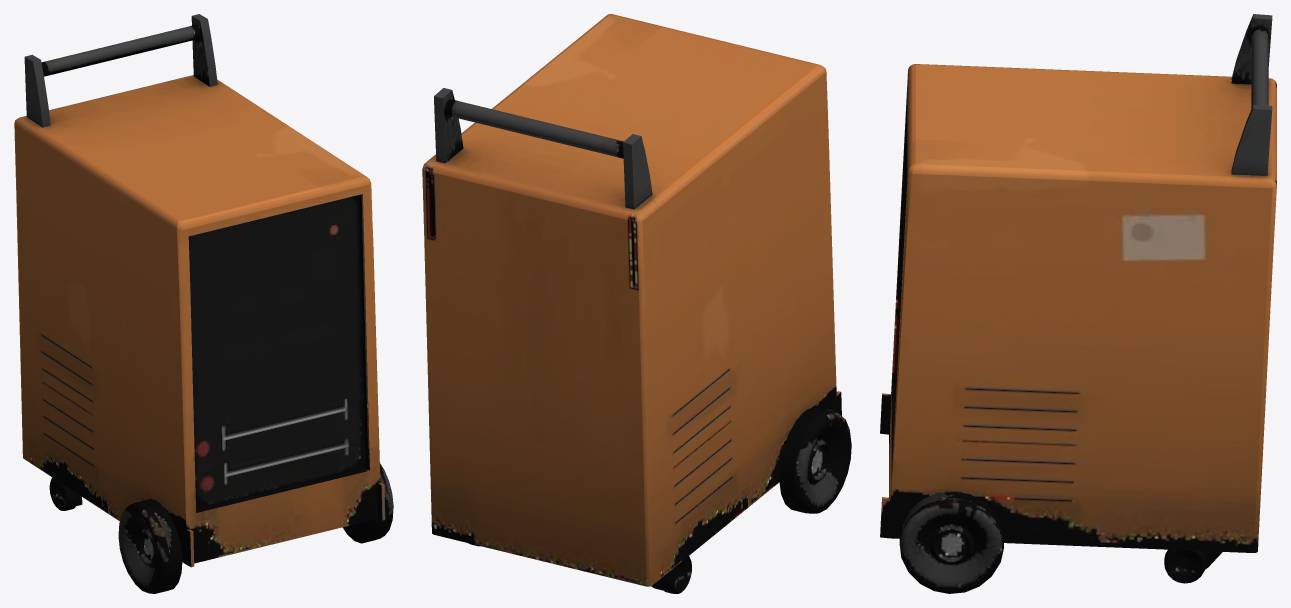
3 renders of one model, left to right at view 1: azimuth 30°, elevation 25°; view 2: azimuth 150°, elevation 25°; view 3: azimuth 270°, elevation 25°, orthographic. The views are drawn at different scales.
Visible parts, largest first — view 1: body0_model0_lod0_mesh0; view 2: body0_model0_lod0_mesh0; view 3: body0_model0_lod0_mesh0.
Part boxes in pixels (x1,y1,x2,y2): body0_model0_lod0_mesh0: [14, 14, 393, 593]; body0_model0_lod0_mesh0: [422, 14, 851, 593]; body0_model0_lod0_mesh0: [880, 14, 1276, 593].
Size of the model in its own units: 40.35 by 70.12 by 53.33.
Materials: 1 (1 with a texture image).
